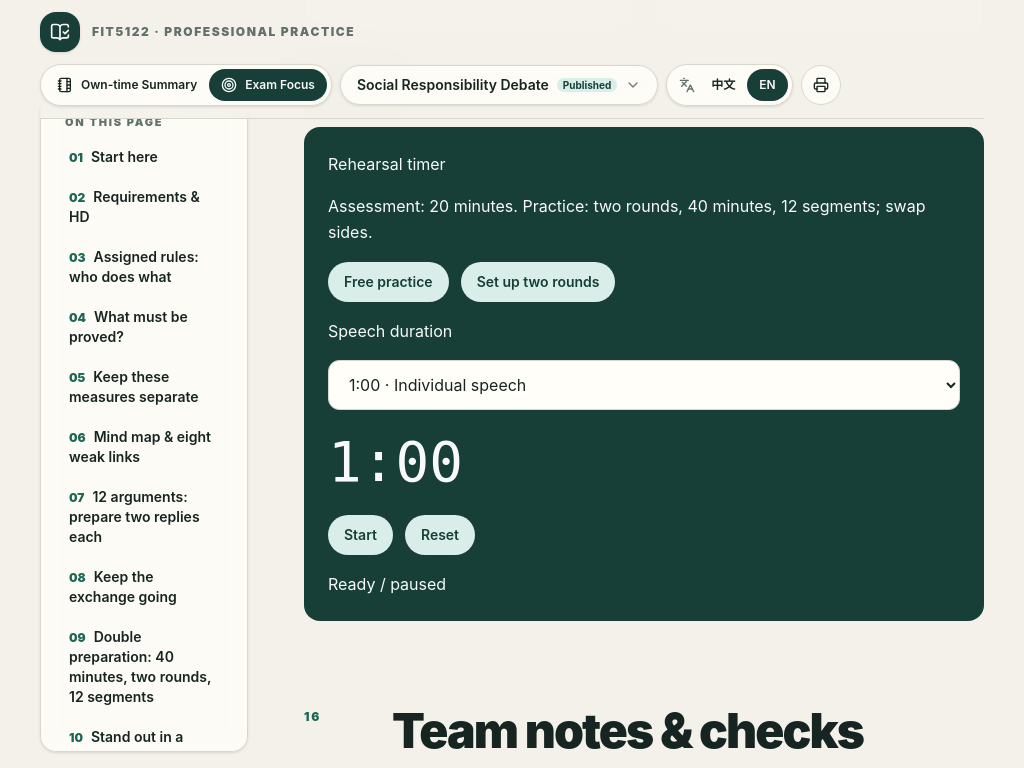
Test case: stops the rehearsal timer at zero and resets to the selected duration
(page scrolled)
Select "3:00 · Rebuttal / closing" in the dropdown labelled "Speech duration": (644, 385) [328,360,960,410]
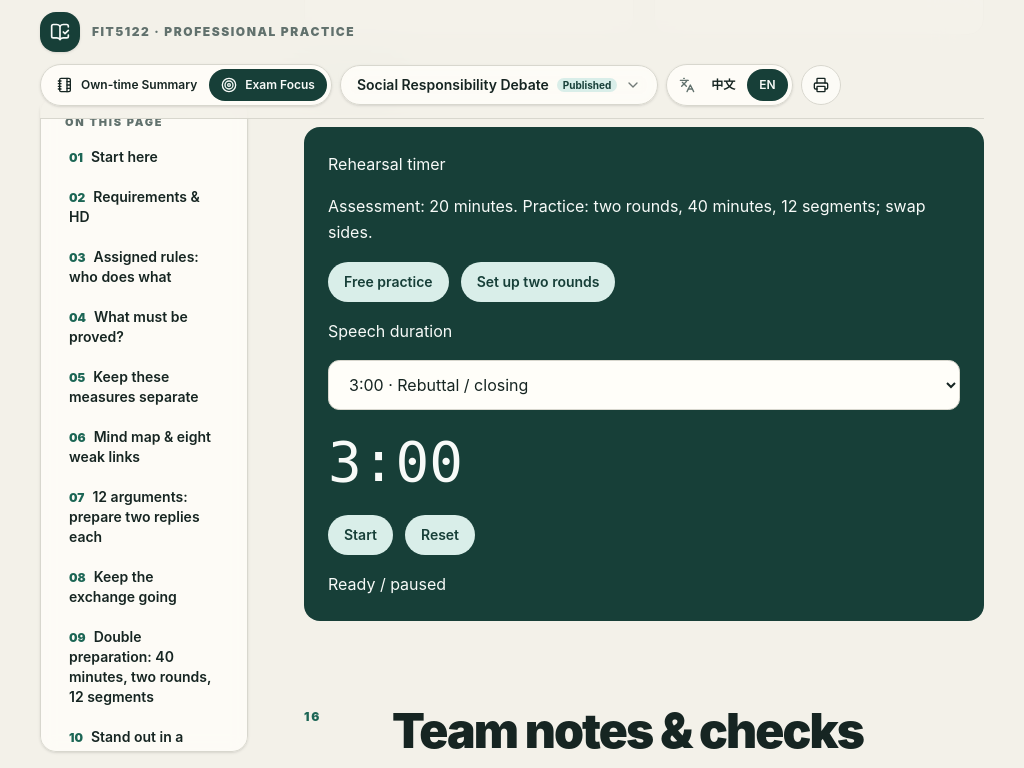
Click the button "Start": (360, 534) [328,514,393,554]
Wait 181000 ms
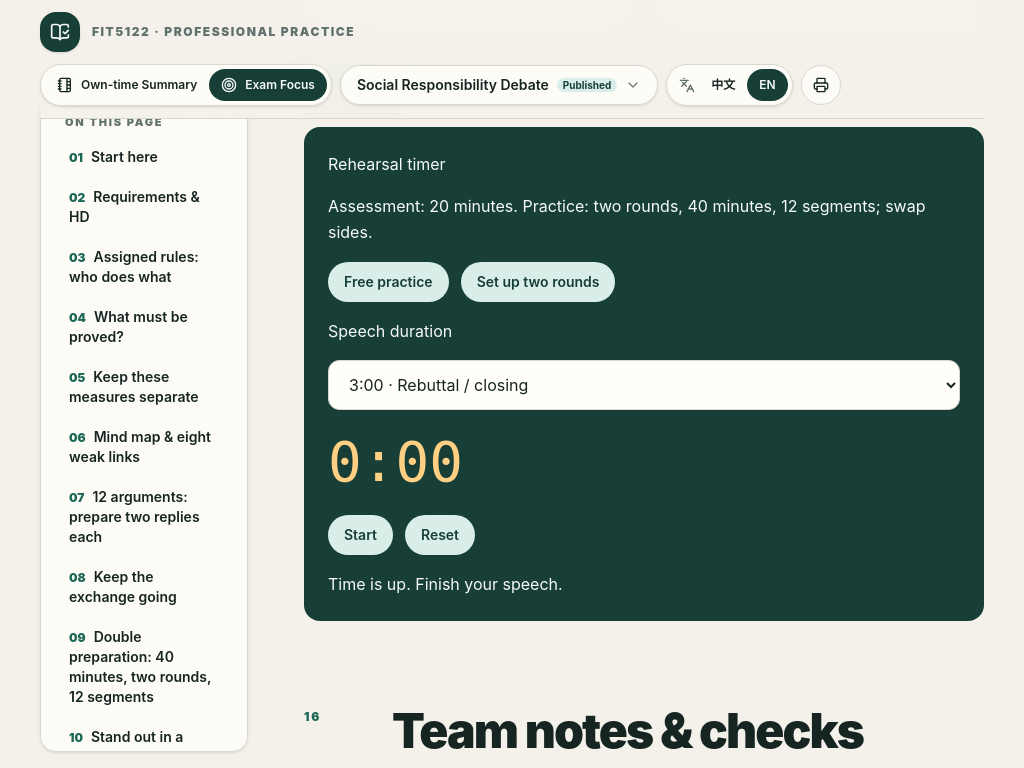
expect the text named "Time remaining" reads "0:00": met, box [328,429,463,494]
expect the text "Time is up. Finish your speech." is shown: met, box [328,574,563,594]
Click the button "Reset": (440, 534) [405,514,475,554]
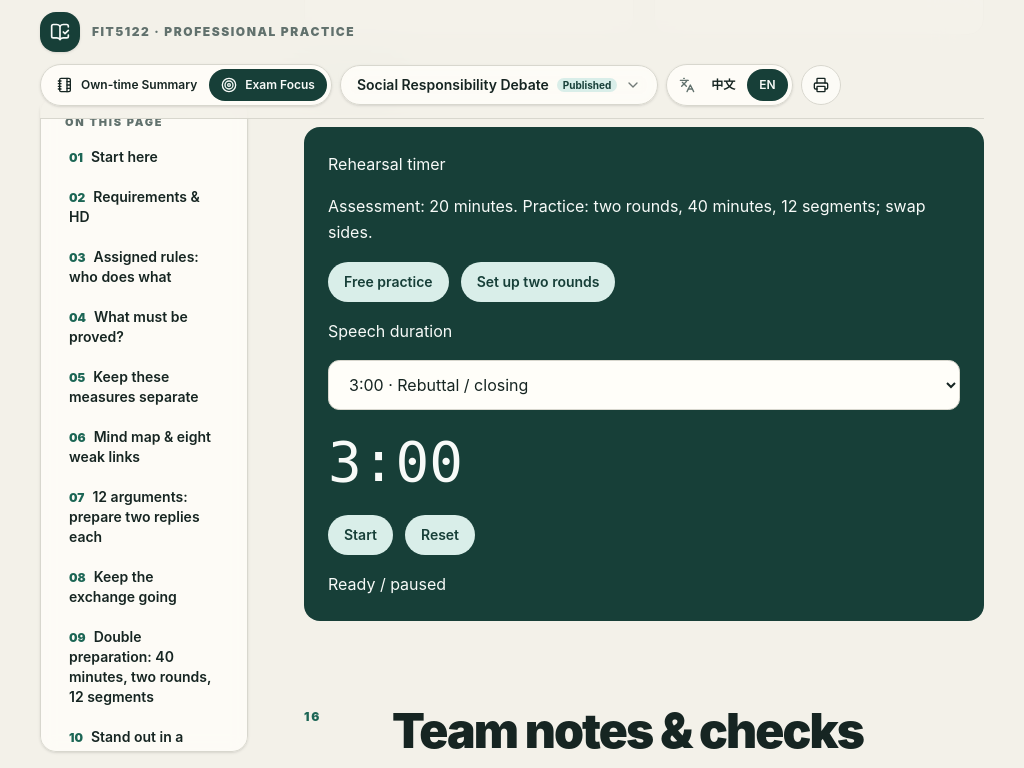
expect the text named "Time remaining" reads "3:00": met, box [328,429,463,494]
